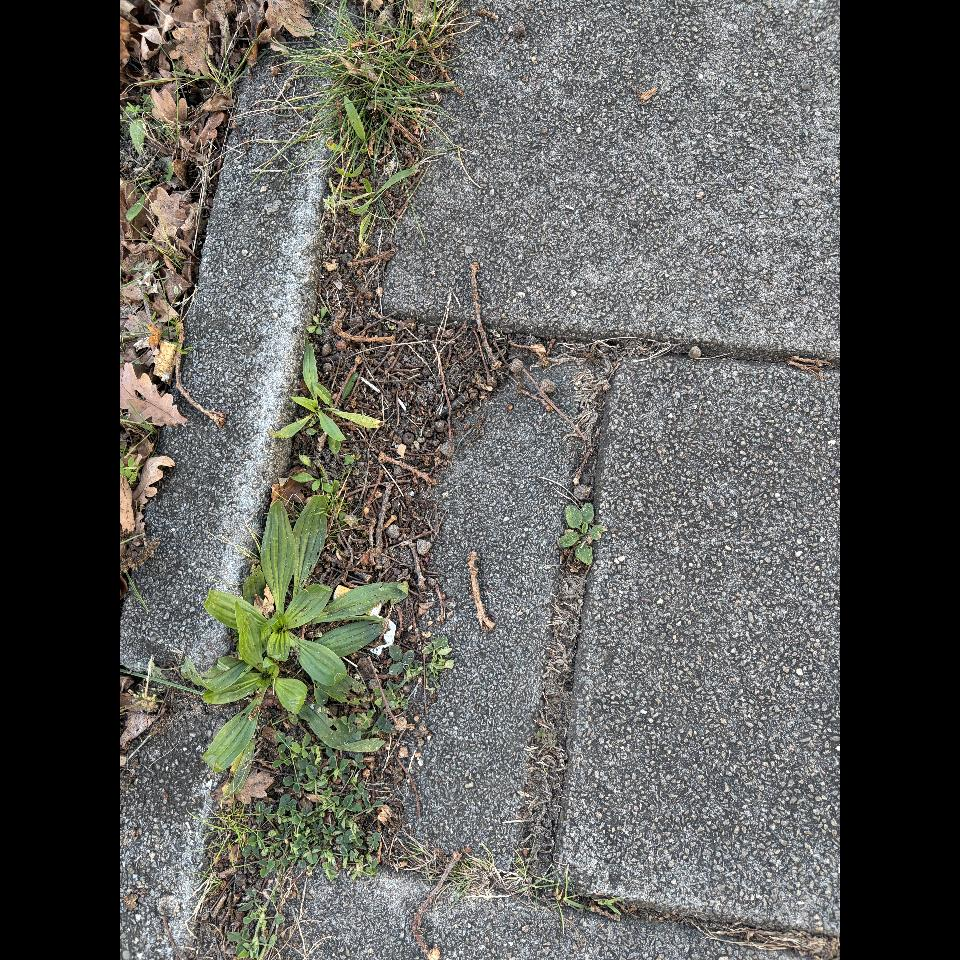weed: (183, 495, 407, 797), (232, 738, 386, 959), (298, 4, 460, 181), (270, 338, 385, 440), (338, 165, 416, 241), (390, 635, 453, 688), (559, 503, 605, 565), (290, 453, 336, 493), (598, 897, 625, 917), (307, 308, 326, 334)
